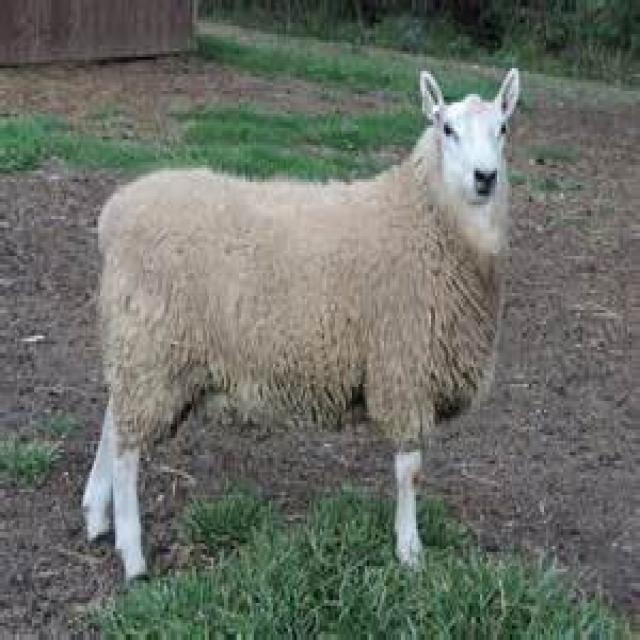animal: (26, 54, 612, 640)
